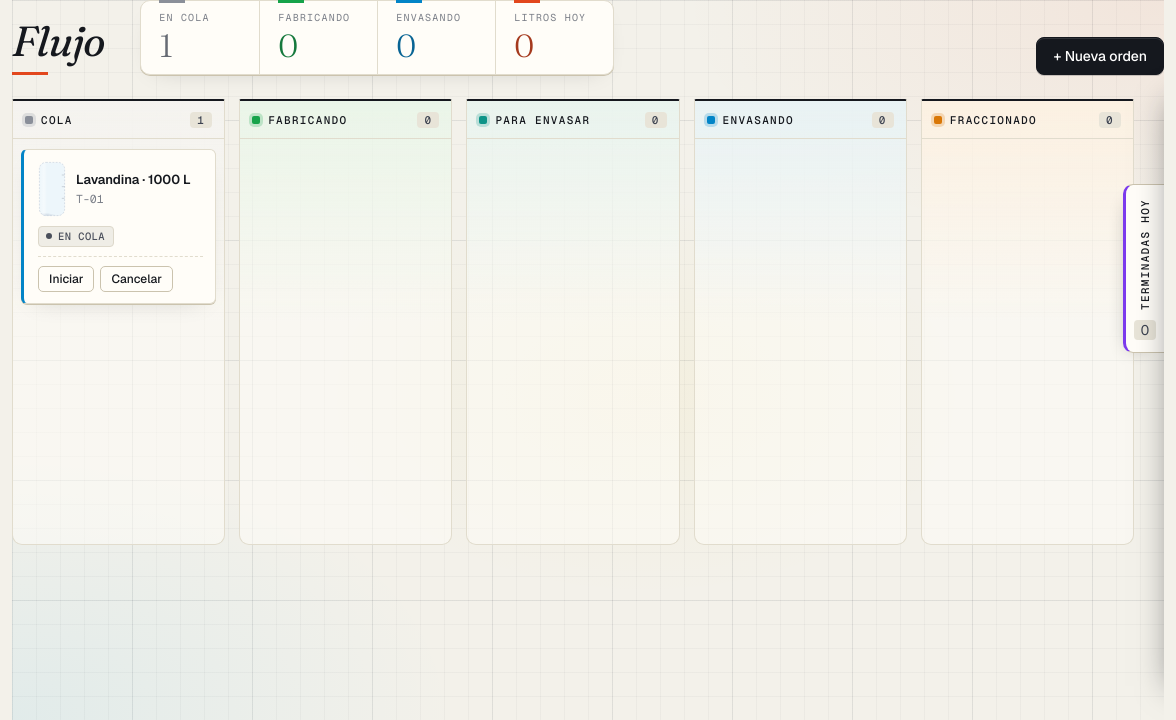
Flujo › si la acción falla muestra el motivo y recarga
Click the button "Iniciar": x=66, y=279 [38,266,94,292]
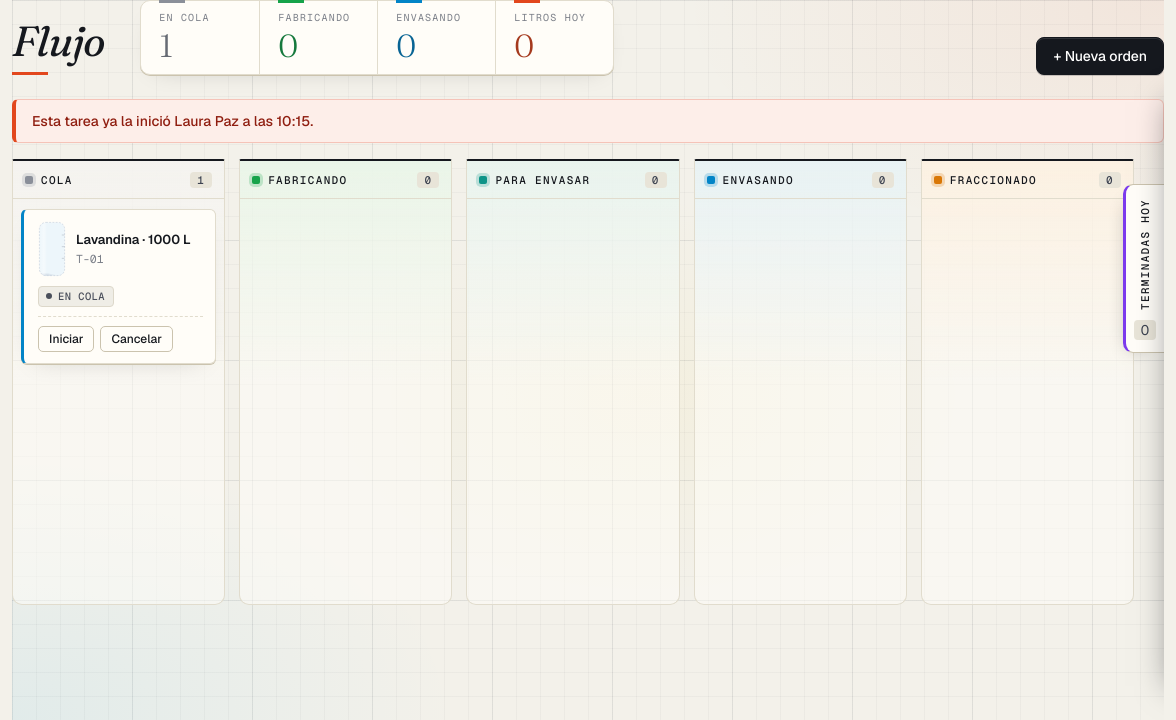
Now the message shows "Laura Paz a las 10:15", box [32,112,313,130]
